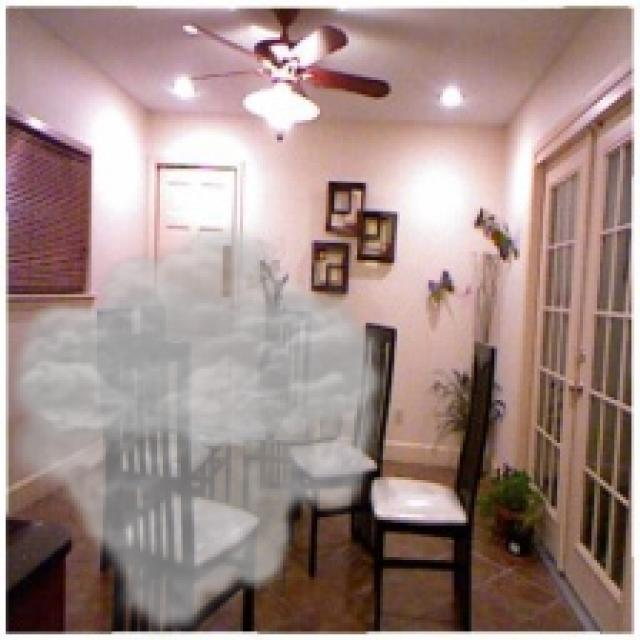Smoke: (0, 222, 397, 638)
